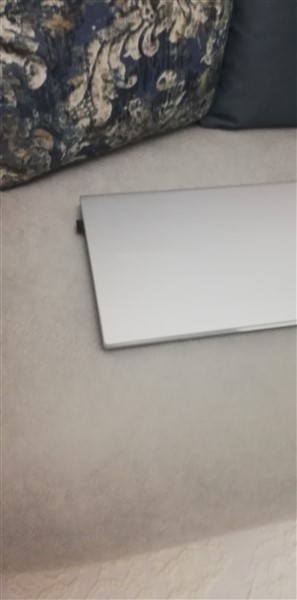laptop: (64, 180, 297, 350)
